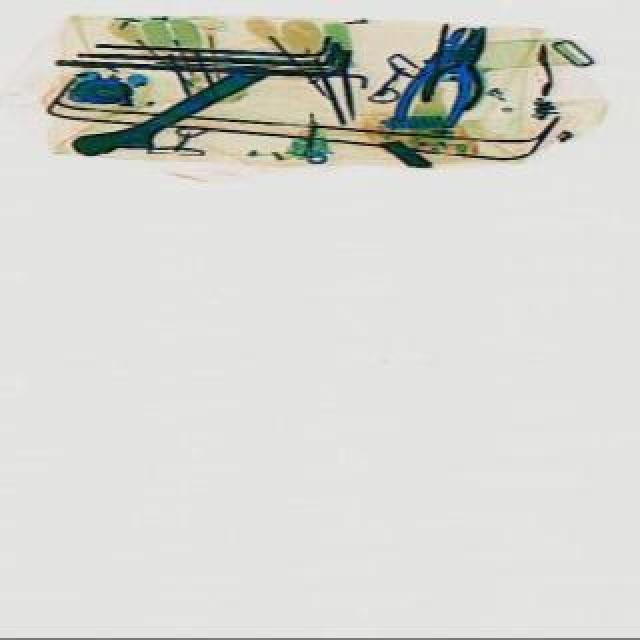scissors: (64, 42, 272, 178)
wrench: (384, 14, 494, 142), (412, 16, 504, 120)
